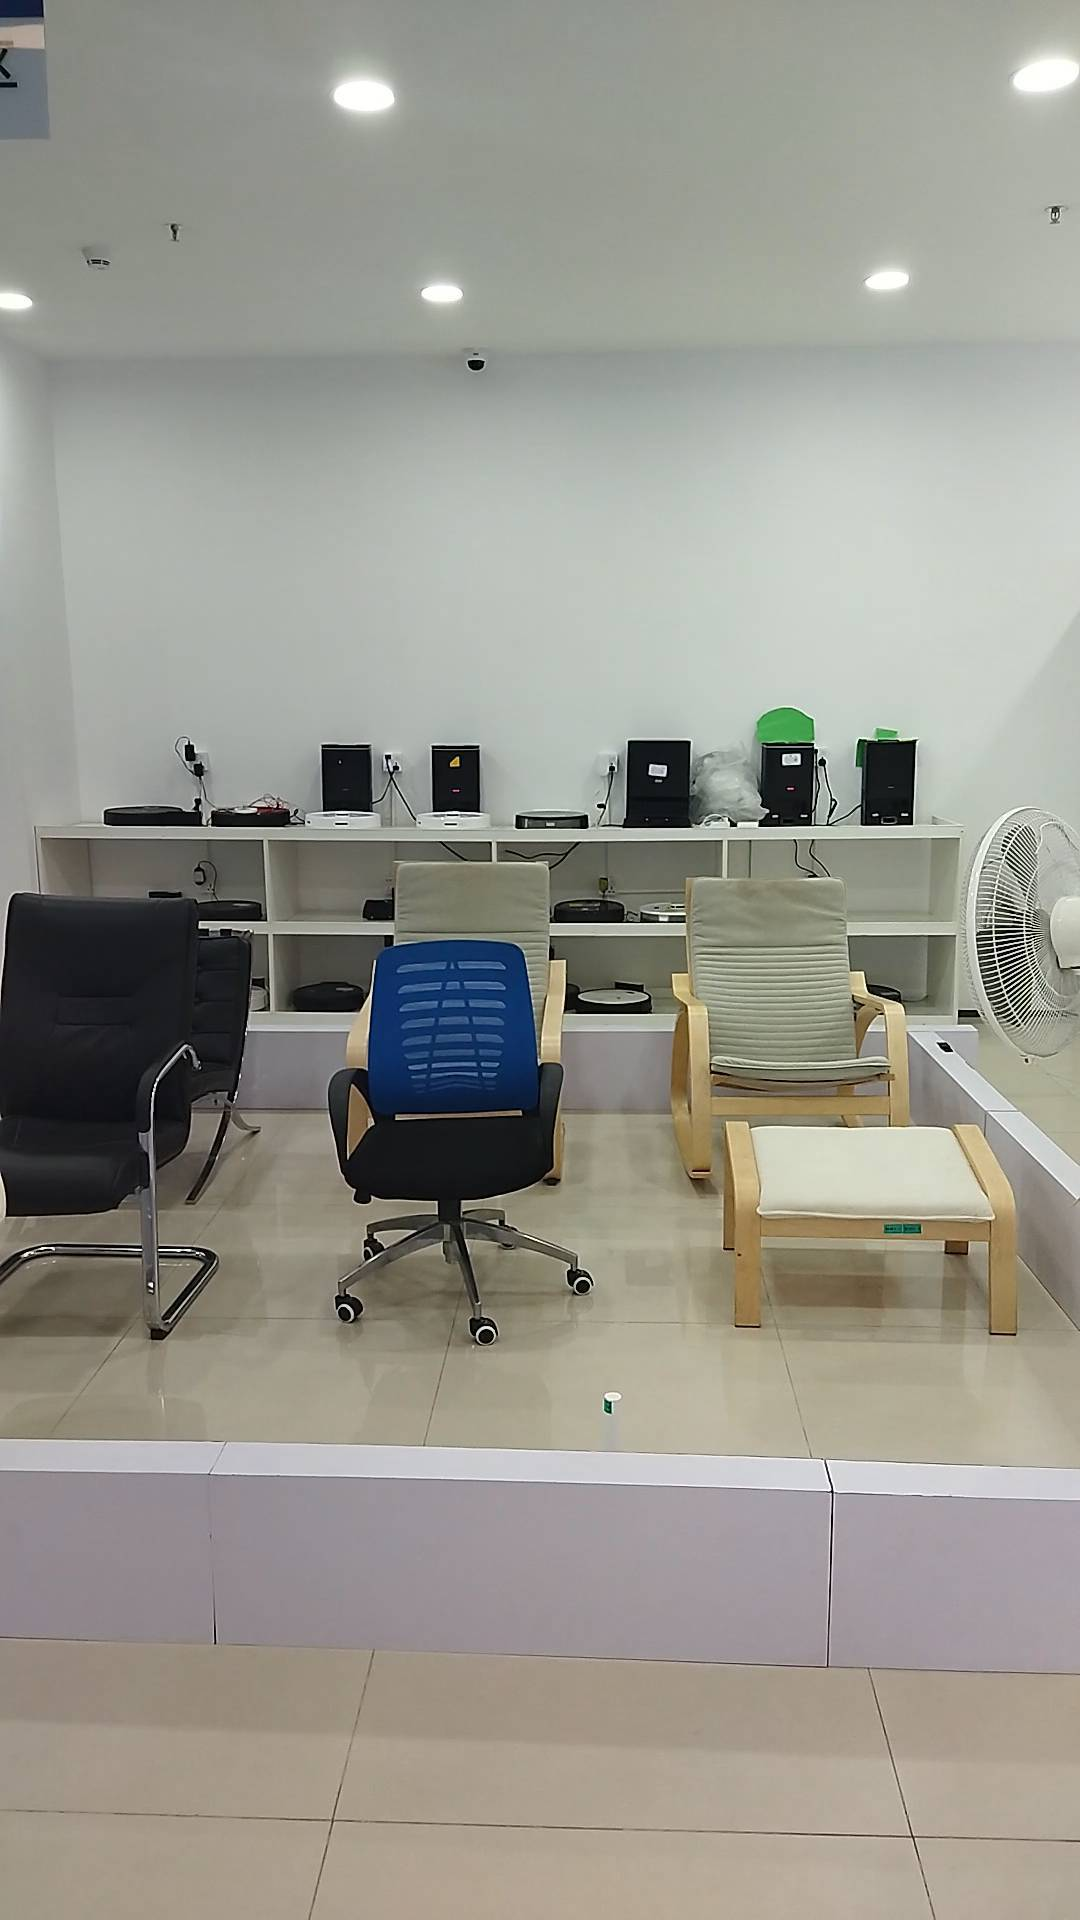dust collecting barrel: (626, 740, 694, 827), (757, 740, 820, 829), (861, 742, 916, 827), (318, 742, 373, 814), (430, 745, 484, 808)
recharge seat: (361, 897, 400, 927)
